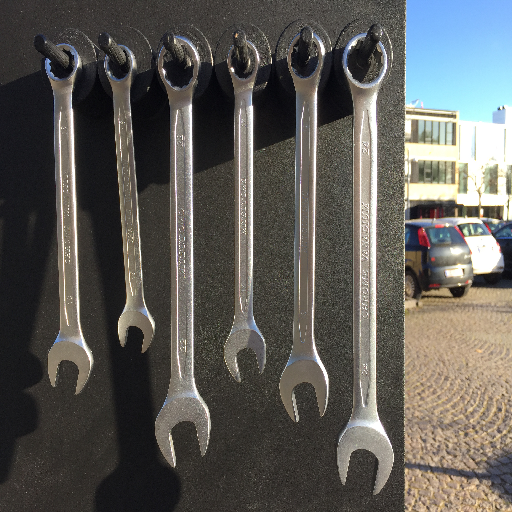bottom: (335, 417, 394, 497), (152, 393, 213, 467), (277, 354, 331, 423), (46, 334, 94, 395), (222, 322, 268, 384), (115, 303, 157, 354)
top: (340, 32, 389, 94), (155, 35, 202, 93), (284, 29, 328, 84), (41, 40, 85, 89), (225, 37, 262, 85), (100, 44, 139, 85)
